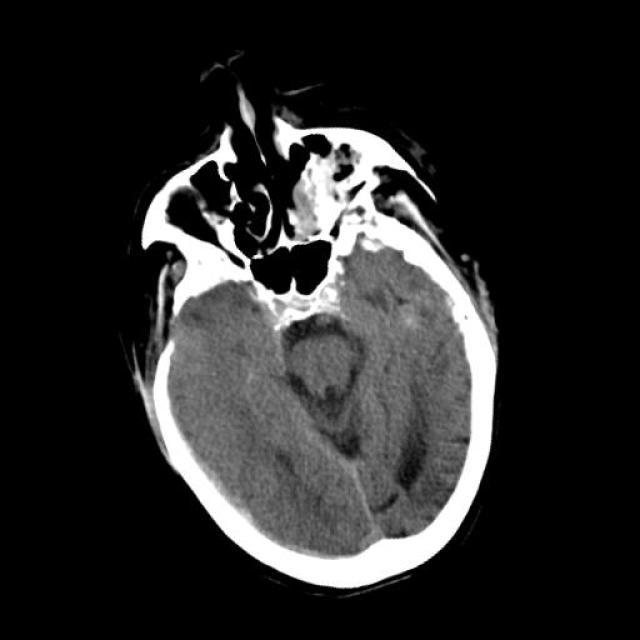Subdural: (146, 394, 290, 575)
